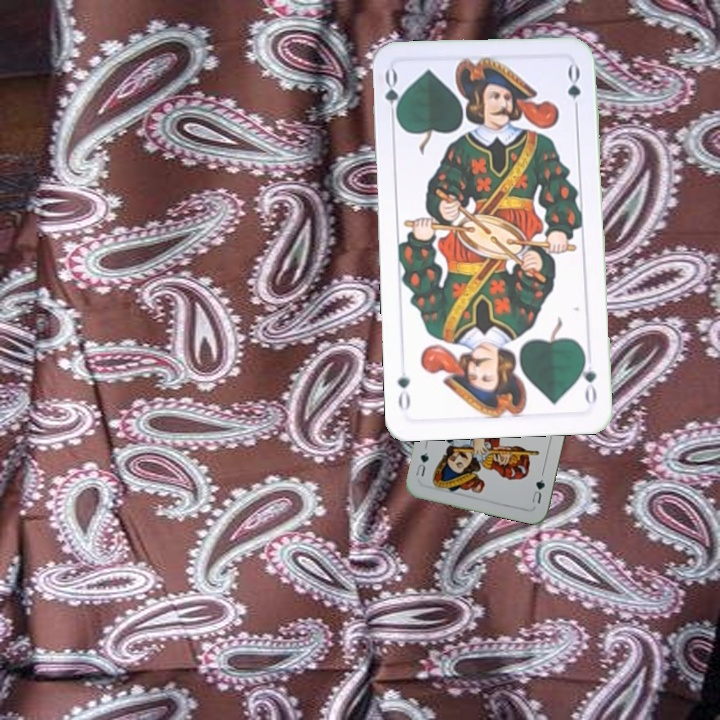GO: (381, 66, 406, 125), (576, 349, 599, 407)
GU: (527, 475, 547, 506)
